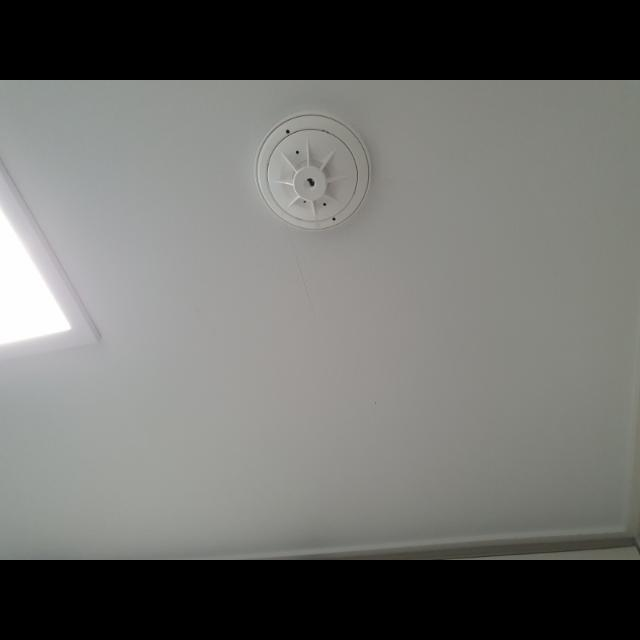Smoke-Detector: (255, 113, 373, 229)
